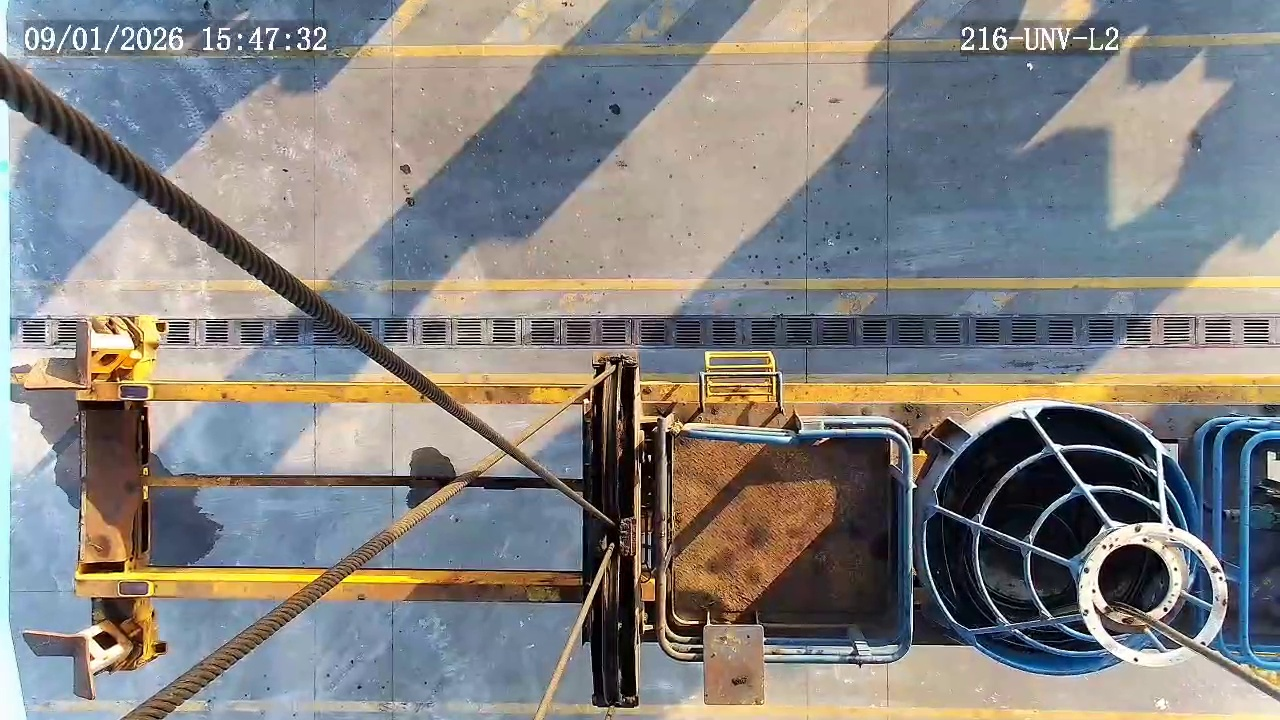left: (925, 403, 1201, 674)
